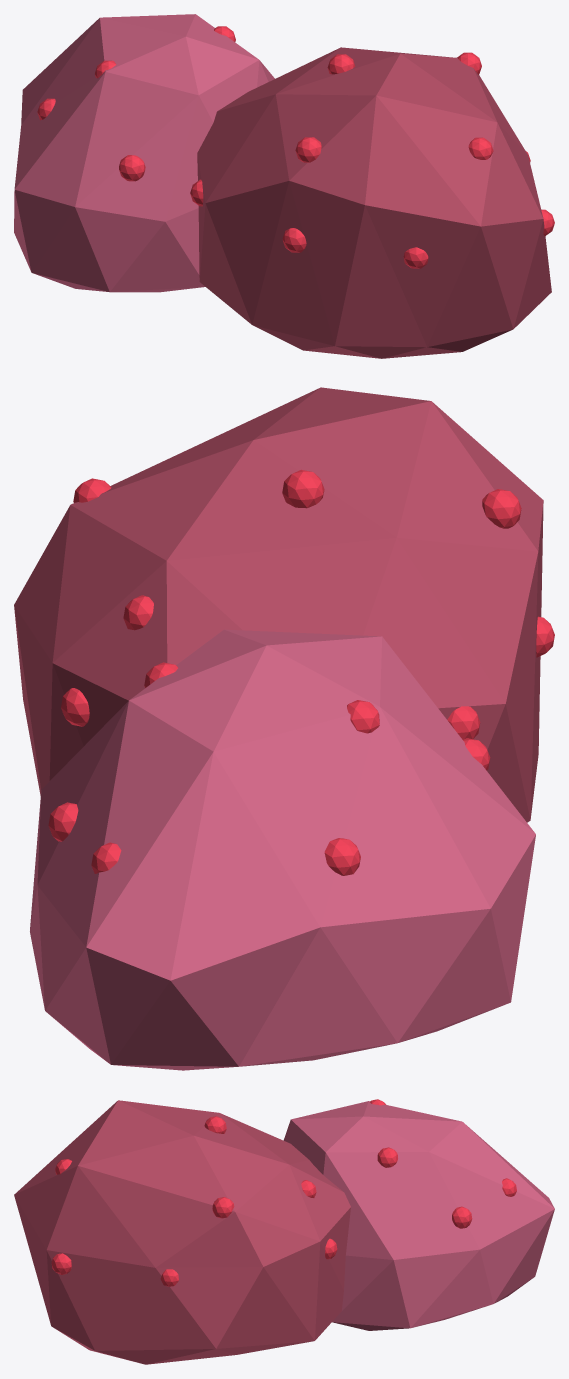
File: Bush.glb
3 views of the same model, one above another, from view 1: azimuth 30°, elevation 25°; view 2: azimuth 150°, elevation 25°; view 3: azimuth 270°, elevation 25° (orthographic). The views are drawn at different scales.
Visible parts, largest first — view 1: object 19, Esta no_11, object 16, object 2, object 6, object 4, object 10, object 1; view 2: Esta no_11, object 19, object 1, object 2, object 13, object 8, object 11, object 12, object 18; view 3: object 19, Esta no_11, object 3, object 11, object 14, object 5.
Part boxes in pixels (x1,y1,x2,y2): object 19: [197, 47, 551, 358]; Esta no_11: [14, 14, 274, 292]; object 16: [119, 155, 145, 181]; object 2: [295, 137, 321, 162]; object 6: [282, 228, 306, 252]; object 4: [468, 137, 493, 159]; object 10: [403, 247, 428, 268]; object 1: [327, 54, 355, 74]; Esta no_11: [30, 629, 535, 1070]; object 19: [14, 387, 543, 822]; object 1: [282, 469, 324, 508]; object 2: [482, 489, 521, 528]; object 13: [324, 838, 360, 875]; object 8: [61, 688, 89, 726]; object 11: [48, 802, 78, 841]; object 12: [347, 700, 379, 733]; object 18: [123, 595, 153, 630]; object 19: [14, 1100, 350, 1364]; Esta no_11: [283, 1101, 554, 1330]; object 3: [212, 1197, 234, 1218]; object 11: [452, 1206, 472, 1228]; object 14: [51, 1253, 71, 1274]; object 5: [377, 1147, 397, 1167].
Size of the model in its own units: 1.12 by 0.6491 by 1.57.
